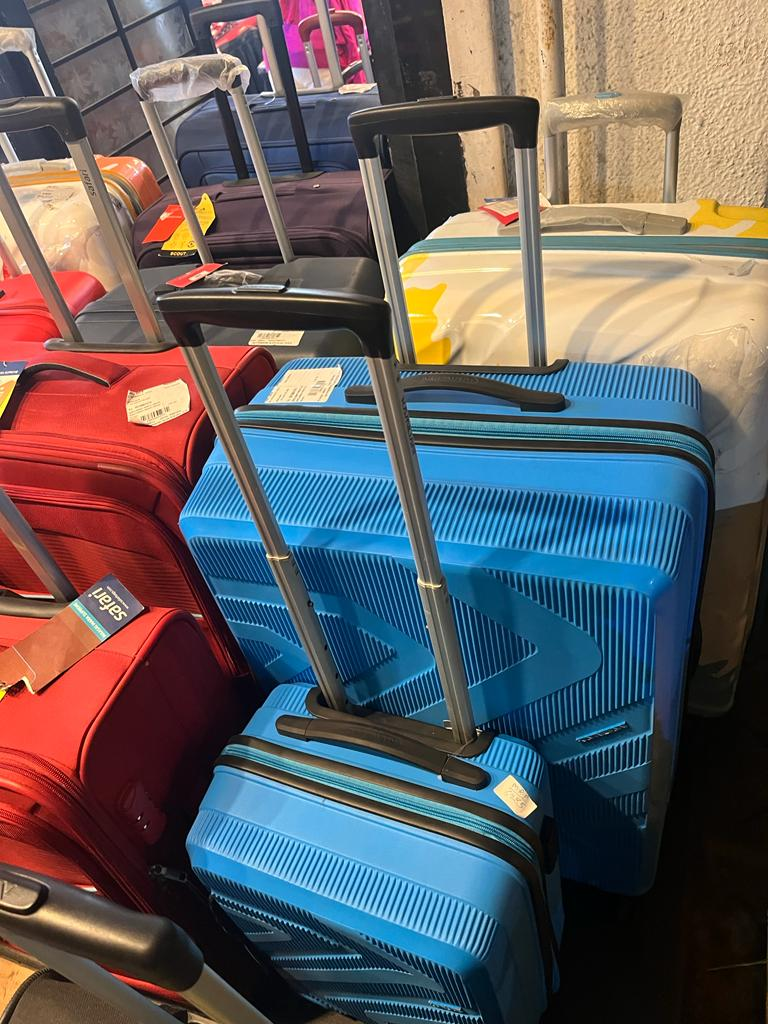Bag: (206, 86, 725, 729), (144, 286, 552, 1020), (0, 94, 250, 587), (0, 588, 211, 909)
Handle: (153, 262, 489, 765), (344, 89, 560, 369), (0, 91, 178, 350), (130, 53, 311, 269)
